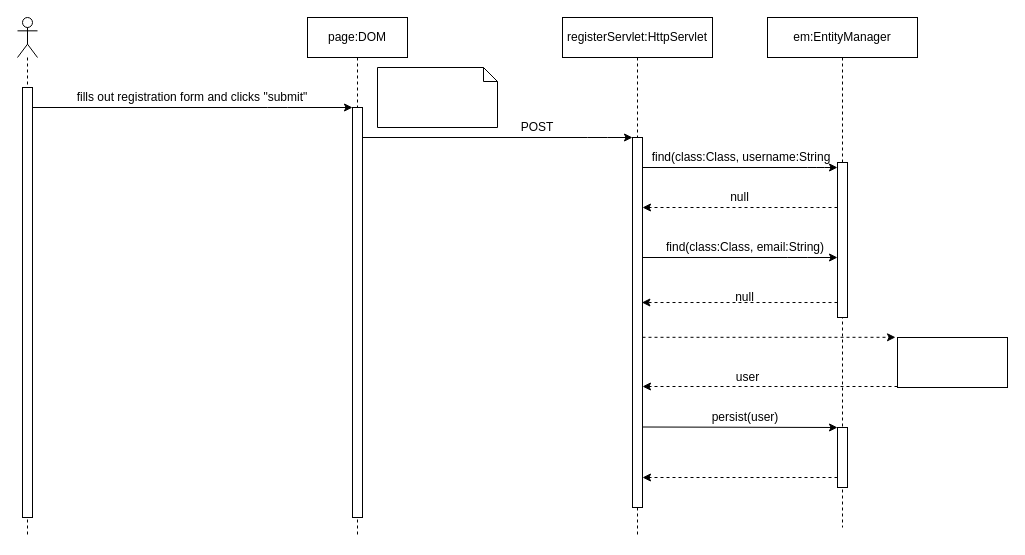
Some shapes in this 1025 by 555 pixel diagram are drawn without their labels. The shapes that lost their labels are listed below. From the top down, each one's centre as x and y in pixels, then its label:
At [437,97]: "registrationData is verified before being sent to server".
At [952,362]: "user:User".
